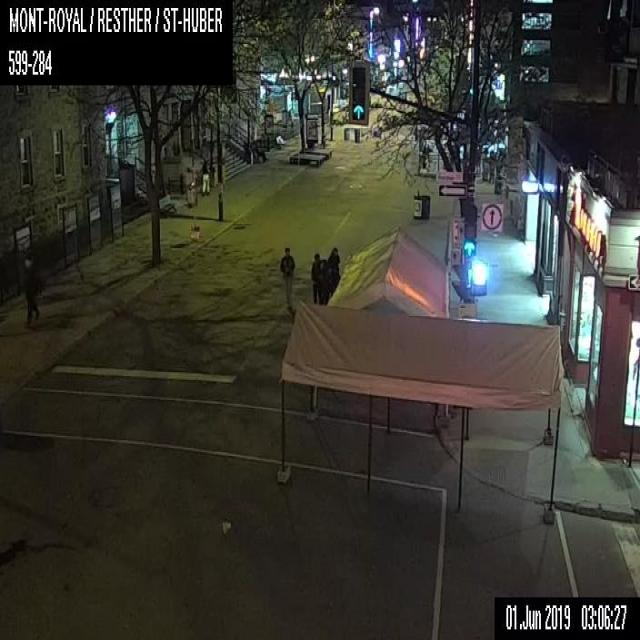pedestrian: (22, 254, 38, 324), (280, 246, 294, 309), (327, 246, 340, 296), (311, 252, 320, 304), (319, 258, 328, 304), (201, 156, 210, 195)
